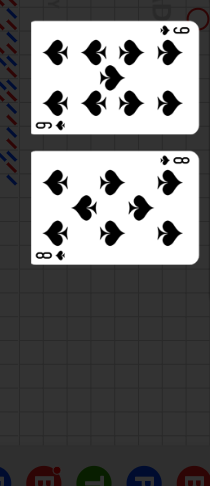10S: (35, 248, 68, 261)
9S: (35, 118, 68, 131)
